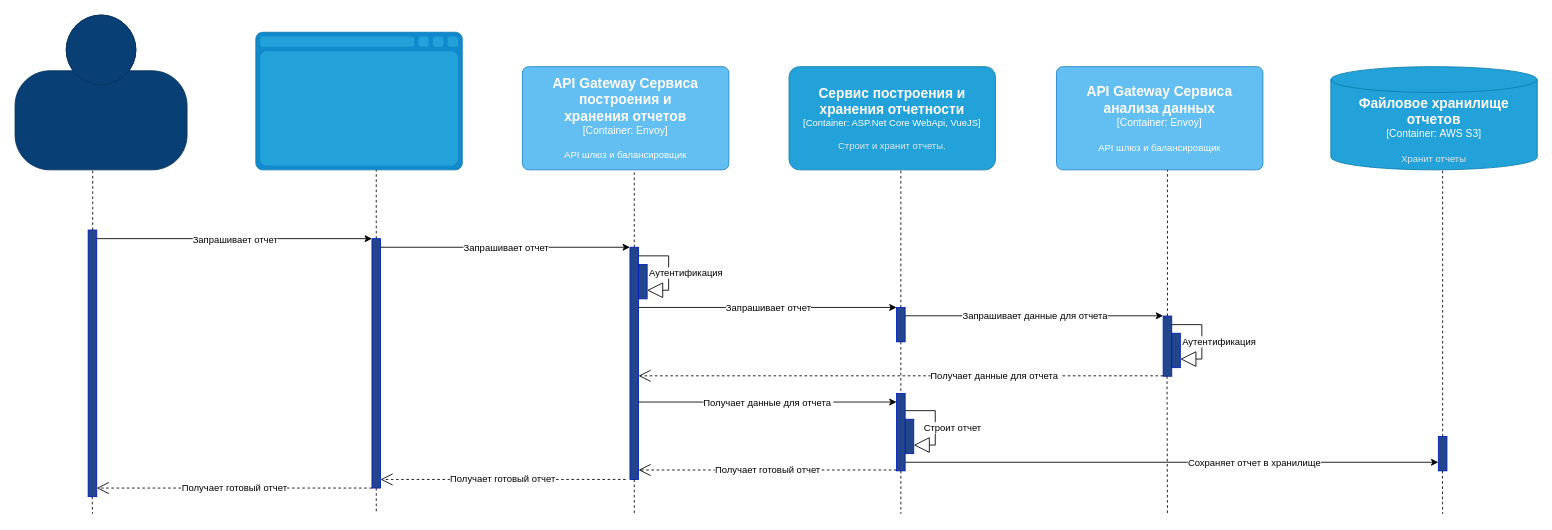
The diagram is 1552 pixels wide and 530 high, and some of its shapes have lost their labels. The centre of each missing label's shape, as x and y in pixels:
SPA маркетолога [- Просмотр отчетов. - Просмотр мониторинговых панелей]: pixel 358 100
Маркетолог [Person] Просматривает отчеты.: pixel 100 92
